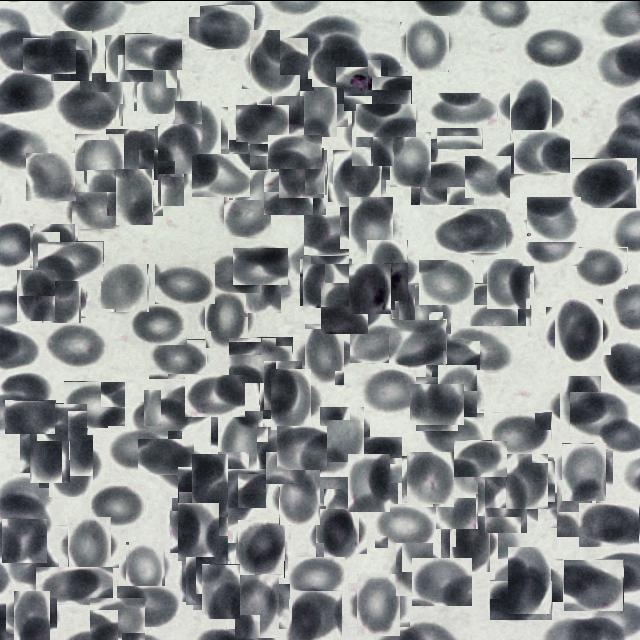red blood cell: (321, 281, 392, 333), (246, 34, 304, 92), (572, 157, 637, 207), (434, 208, 506, 252), (550, 302, 606, 358), (564, 558, 624, 610), (501, 552, 557, 607), (421, 412, 484, 460), (429, 468, 484, 522), (445, 328, 512, 372), (229, 336, 293, 382), (36, 566, 113, 604), (504, 82, 558, 136), (230, 578, 284, 632), (72, 134, 126, 188), (44, 438, 98, 492), (64, 380, 126, 427), (312, 34, 368, 86), (188, 4, 254, 48), (412, 557, 472, 605), (411, 160, 475, 204), (331, 150, 384, 203), (352, 578, 406, 630), (172, 102, 224, 156), (344, 200, 398, 252), (161, 381, 218, 430), (235, 522, 288, 574), (394, 286, 447, 338), (480, 474, 532, 527), (255, 428, 308, 480), (46, 322, 108, 366), (375, 503, 437, 547), (264, 170, 326, 214), (345, 435, 403, 482), (469, 282, 532, 325), (304, 211, 367, 254), (214, 412, 266, 464), (404, 452, 456, 504), (362, 244, 414, 296), (492, 411, 552, 456), (108, 425, 168, 470), (389, 318, 447, 364), (64, 520, 115, 572), (224, 144, 276, 195), (558, 444, 609, 496), (117, 586, 180, 628), (38, 240, 104, 280), (579, 502, 639, 546), (522, 219, 579, 265), (570, 391, 628, 436), (202, 292, 252, 344), (136, 152, 188, 202), (361, 368, 420, 412), (419, 258, 475, 304), (192, 154, 250, 198), (312, 506, 363, 556), (266, 372, 316, 423), (490, 579, 553, 619), (185, 374, 245, 416), (513, 130, 570, 174), (300, 329, 350, 379), (403, 18, 453, 68), (348, 111, 398, 161), (317, 408, 367, 458), (25, 427, 75, 477), (344, 457, 394, 507), (185, 459, 235, 509), (174, 506, 224, 556), (292, 589, 342, 639), (106, 128, 160, 174), (524, 26, 584, 67), (238, 257, 288, 306), (301, 257, 351, 306), (286, 556, 344, 598), (527, 196, 581, 241), (428, 92, 497, 127), (90, 596, 146, 639), (155, 263, 215, 303), (26, 152, 76, 200), (386, 134, 434, 183), (552, 483, 600, 532), (149, 338, 207, 378), (91, 483, 146, 525), (77, 74, 125, 122), (446, 519, 494, 567), (295, 83, 343, 131), (276, 473, 324, 521), (101, 264, 149, 312), (556, 379, 604, 427), (503, 456, 551, 504), (278, 147, 326, 195), (156, 124, 204, 172), (413, 379, 461, 427), (130, 304, 187, 344), (122, 545, 170, 592), (197, 566, 244, 614), (5, 542, 56, 586), (350, 322, 406, 362), (485, 259, 532, 306), (106, 34, 152, 82), (277, 425, 327, 469), (112, 173, 158, 220), (160, 451, 214, 491), (125, 32, 183, 69), (577, 246, 628, 288), (233, 246, 289, 284), (57, 91, 116, 127), (214, 467, 267, 507), (140, 393, 186, 439), (186, 538, 232, 584), (435, 367, 481, 413), (392, 546, 437, 592), (49, 32, 94, 78), (280, 25, 322, 74), (309, 461, 354, 506), (14, 272, 59, 317), (2, 517, 47, 562), (38, 276, 84, 320), (224, 193, 271, 236), (138, 438, 194, 474), (454, 439, 508, 476), (488, 140, 542, 177), (262, 362, 306, 407), (31, 224, 76, 268), (176, 493, 220, 538), (356, 103, 416, 136), (236, 104, 289, 141), (23, 37, 77, 73), (37, 402, 88, 440), (184, 558, 228, 602), (72, 188, 120, 228), (257, 94, 305, 134), (207, 256, 260, 292), (426, 341, 480, 376), (465, 155, 510, 197), (9, 594, 54, 636), (136, 68, 178, 112), (268, 134, 322, 168), (302, 14, 360, 44), (5, 399, 56, 433), (372, 75, 412, 116), (437, 113, 482, 148)
ring: (347, 265, 392, 311)
trophozoite: (340, 62, 384, 106)
